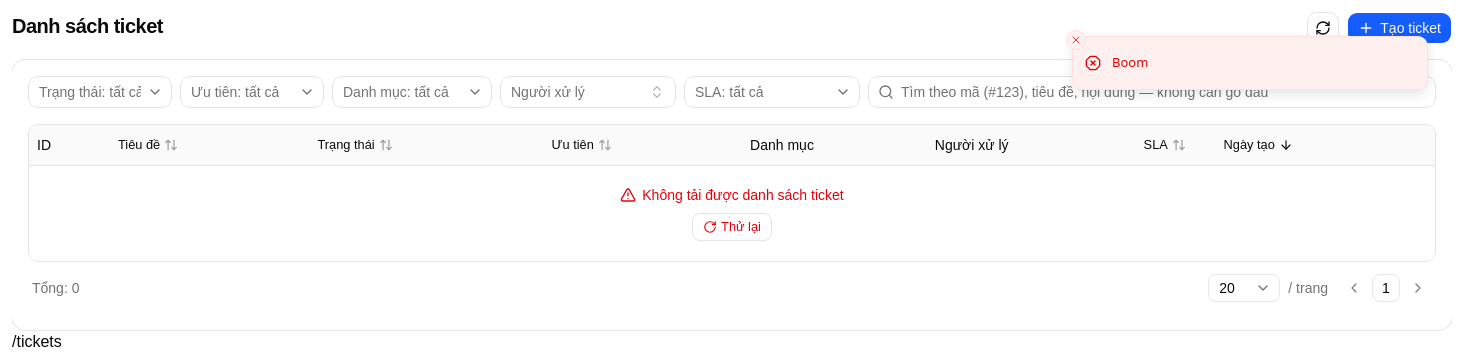
Test: TicketListPage › shows an inline error with a retry button when the list cannot be loaded
The width and height of the screenshot is (1464, 364).
Expected: the text "Không tải được danh sách ticket" is shown, x1=620 y1=185 x2=844 y2=205
Click the button "Thử lại" at (732, 227), box x1=692 y1=213 x2=772 y2=241
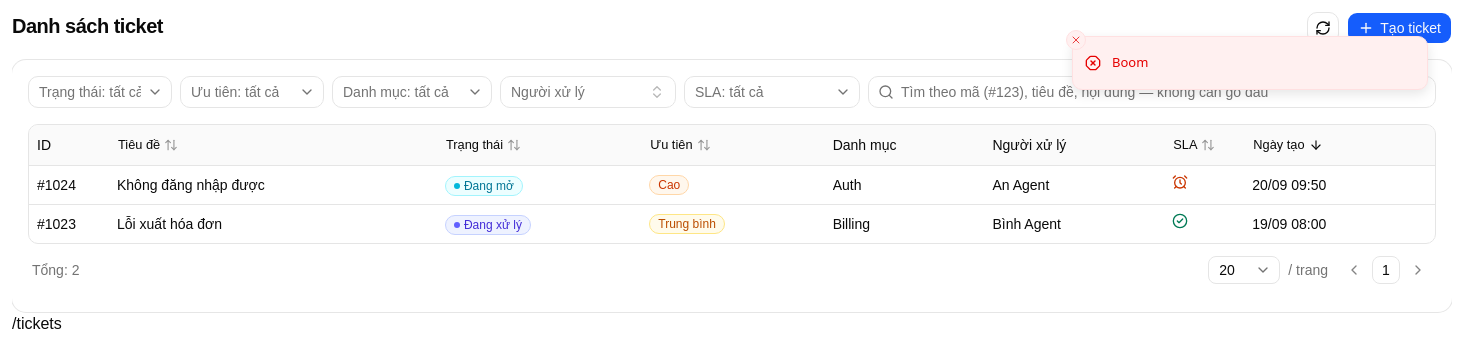
Now the link "Không đăng nhập được" is shown, box x1=117 y1=176 x2=265 y2=192
